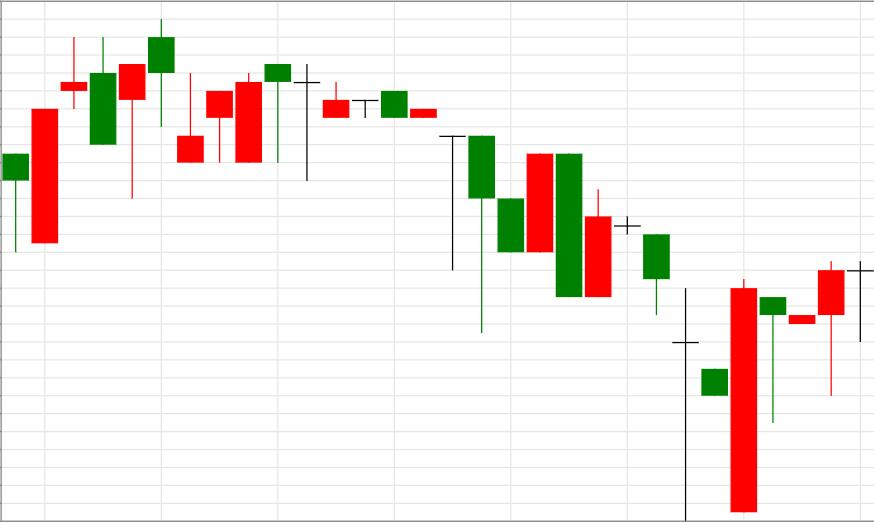bullish_engulfing_rise: (468, 135, 758, 521)
